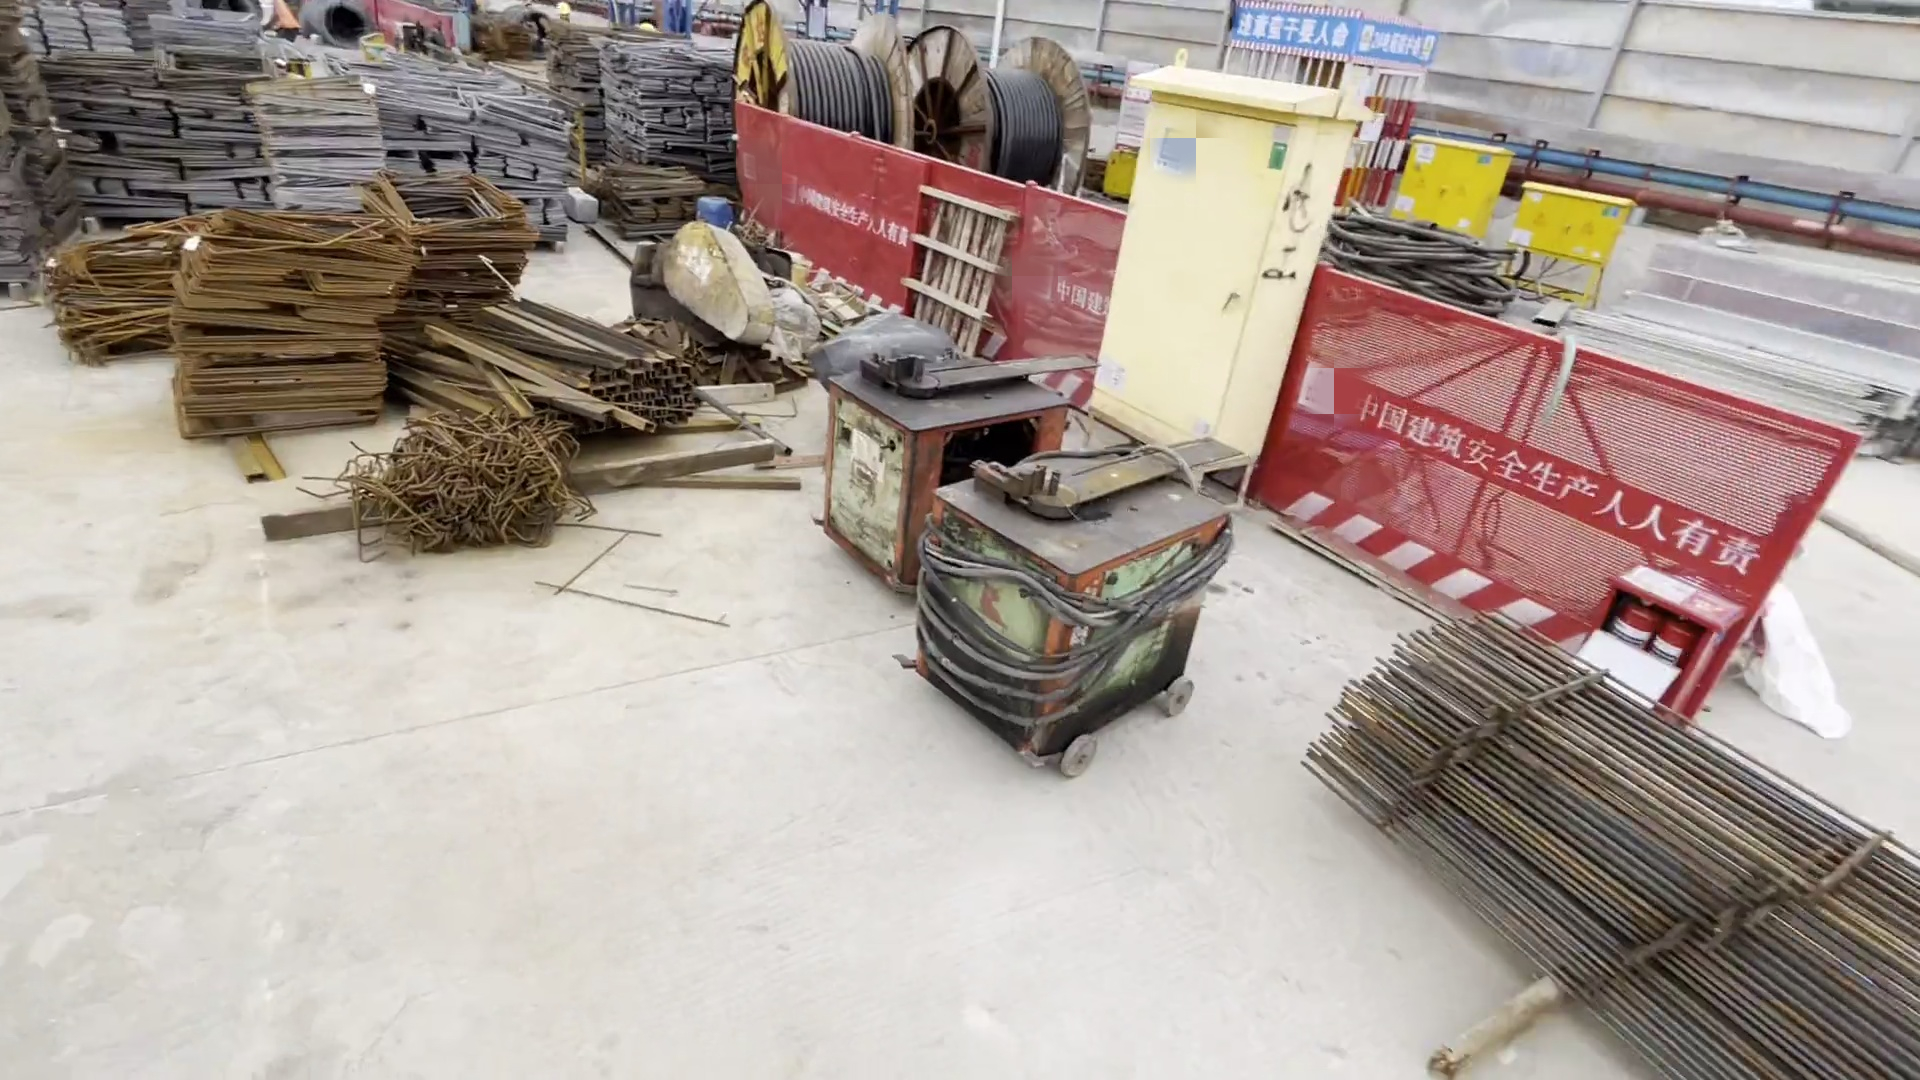ebox: (1087, 55, 1364, 526), (1395, 109, 1615, 302)
fence: (1263, 264, 1797, 684), (723, 102, 1110, 382)
rebar: (1315, 615, 1920, 1080)
slogan: (1360, 397, 1778, 576)
